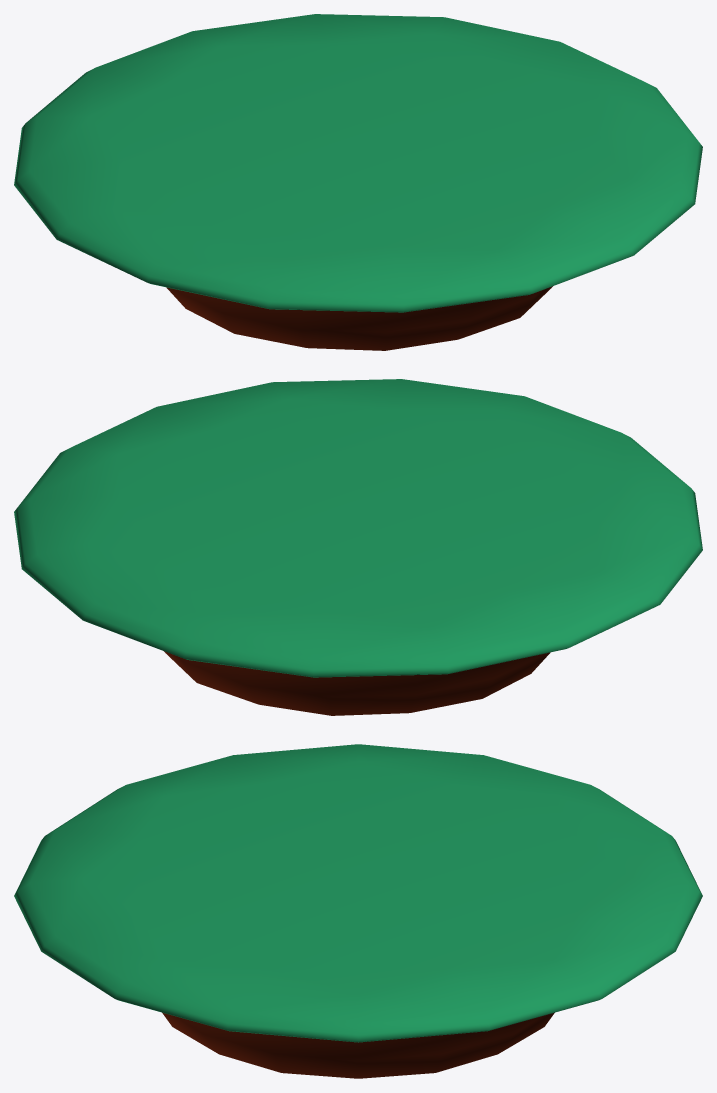
Rendered from Platafrom.dae.
The picture shows the model from 3 angles, top to bottom: view 1: azimuth 30°, elevation 25°; view 2: azimuth 150°, elevation 25°; view 3: azimuth 270°, elevation 25°; orthographic projection.
Visible parts, largest first — view 1: Cube; view 2: Cube; view 3: Cube.
Part boxes in pixels (x1,y1,x2,y2): Cube: (14,14,702,350); Cube: (14,379,702,715); Cube: (14,744,702,1078).
Size of the model in its own units: 8 by 8 by 2.13.
